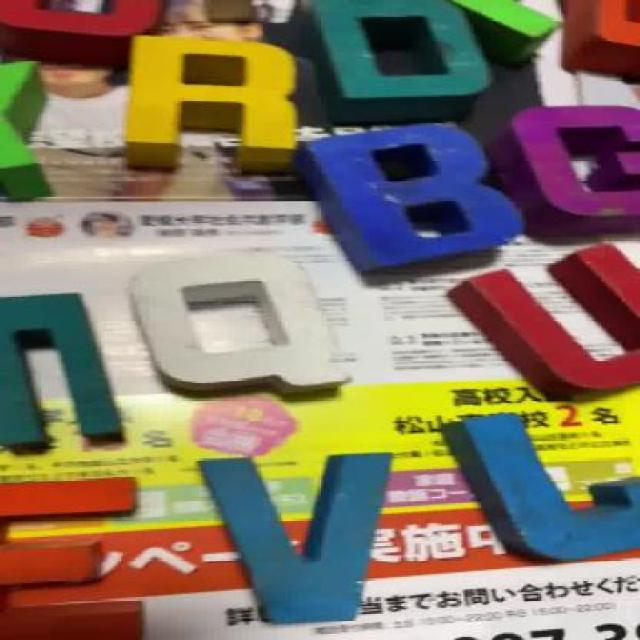B: (291, 124, 520, 262)
D: (306, 0, 480, 115)
Q: (136, 258, 358, 400)
R: (111, 36, 294, 175)
V: (220, 456, 392, 622)
